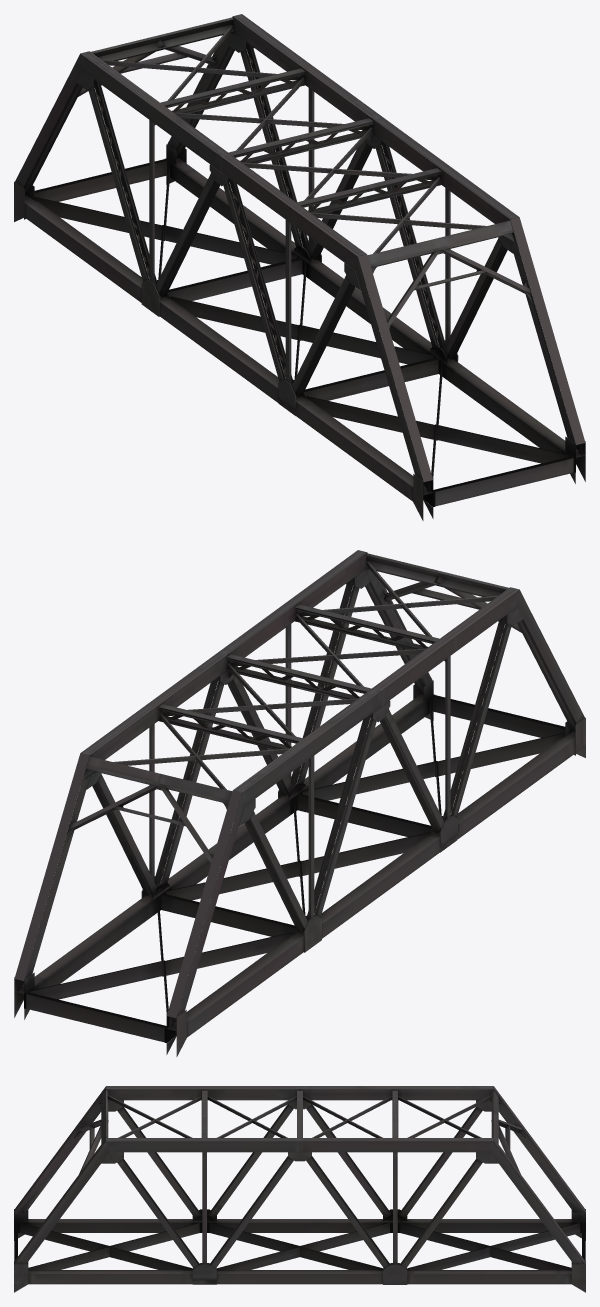
3 views of the same model, one above another, from view 1: azimuth 30°, elevation 25°; view 2: azimuth 150°, elevation 25°; view 3: azimuth 270°, elevation 25° (orthographic). The views are drawn at different scales.
Visible parts, largest first — view 1: body0_model0_lod0_mesh0; view 2: body0_model0_lod0_mesh0; view 3: body0_model0_lod0_mesh0.
Part boxes in pixels (x1,y1,x2,y2): body0_model0_lod0_mesh0: (14, 14, 585, 520); body0_model0_lod0_mesh0: (14, 550, 585, 1056); body0_model0_lod0_mesh0: (14, 1086, 585, 1292).
Size of the model in its own units: 295 by 374 by 1280.
Materials: 1 (1 with a texture image).
